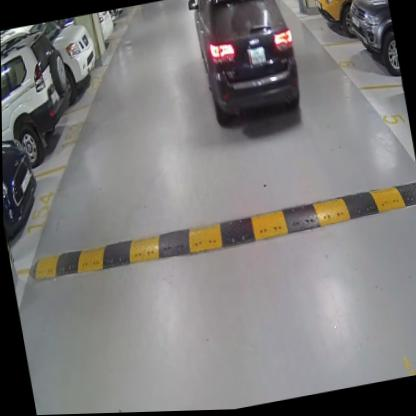np: (247, 46, 267, 67)
